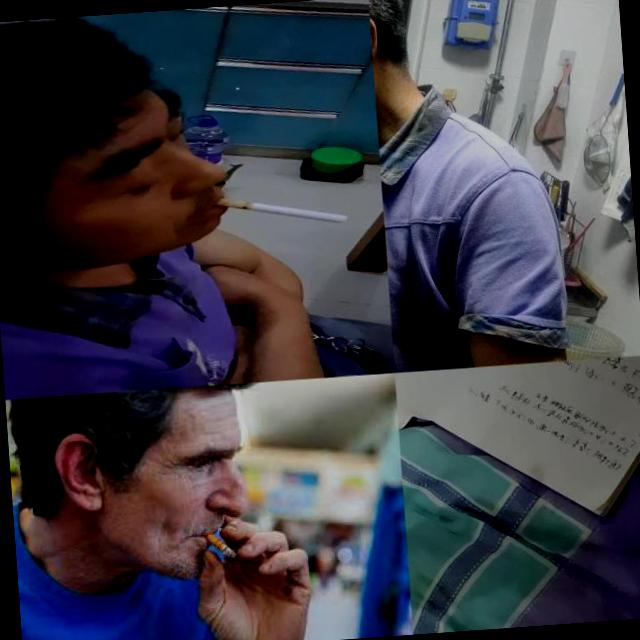smoke: (215, 190, 348, 232), (206, 532, 236, 560)
